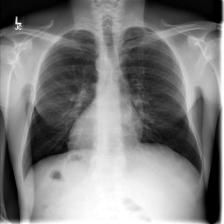normal: (17, 23, 206, 191)
